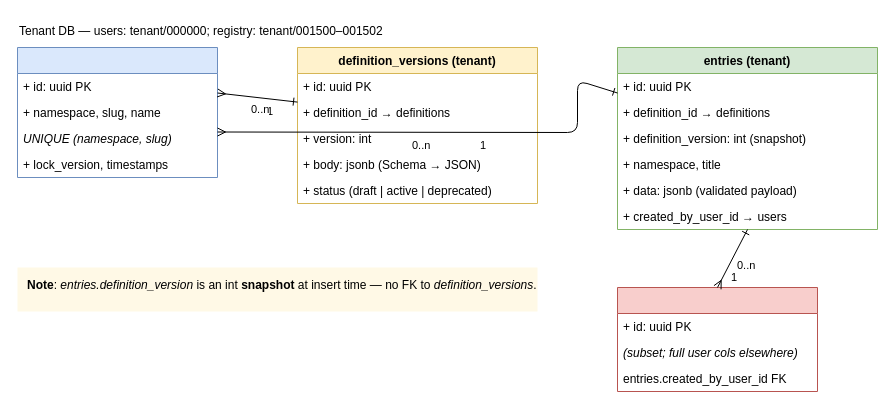
The diagram is 895 pixels wide and 409 high, and some of its shapes have lost their labels. The box of each missing label's shape, as (x1, y1, x2, y2) in pixels:
definitions (tenant): (16, 46, 218, 178)
users (tenant): (616, 286, 818, 392)
